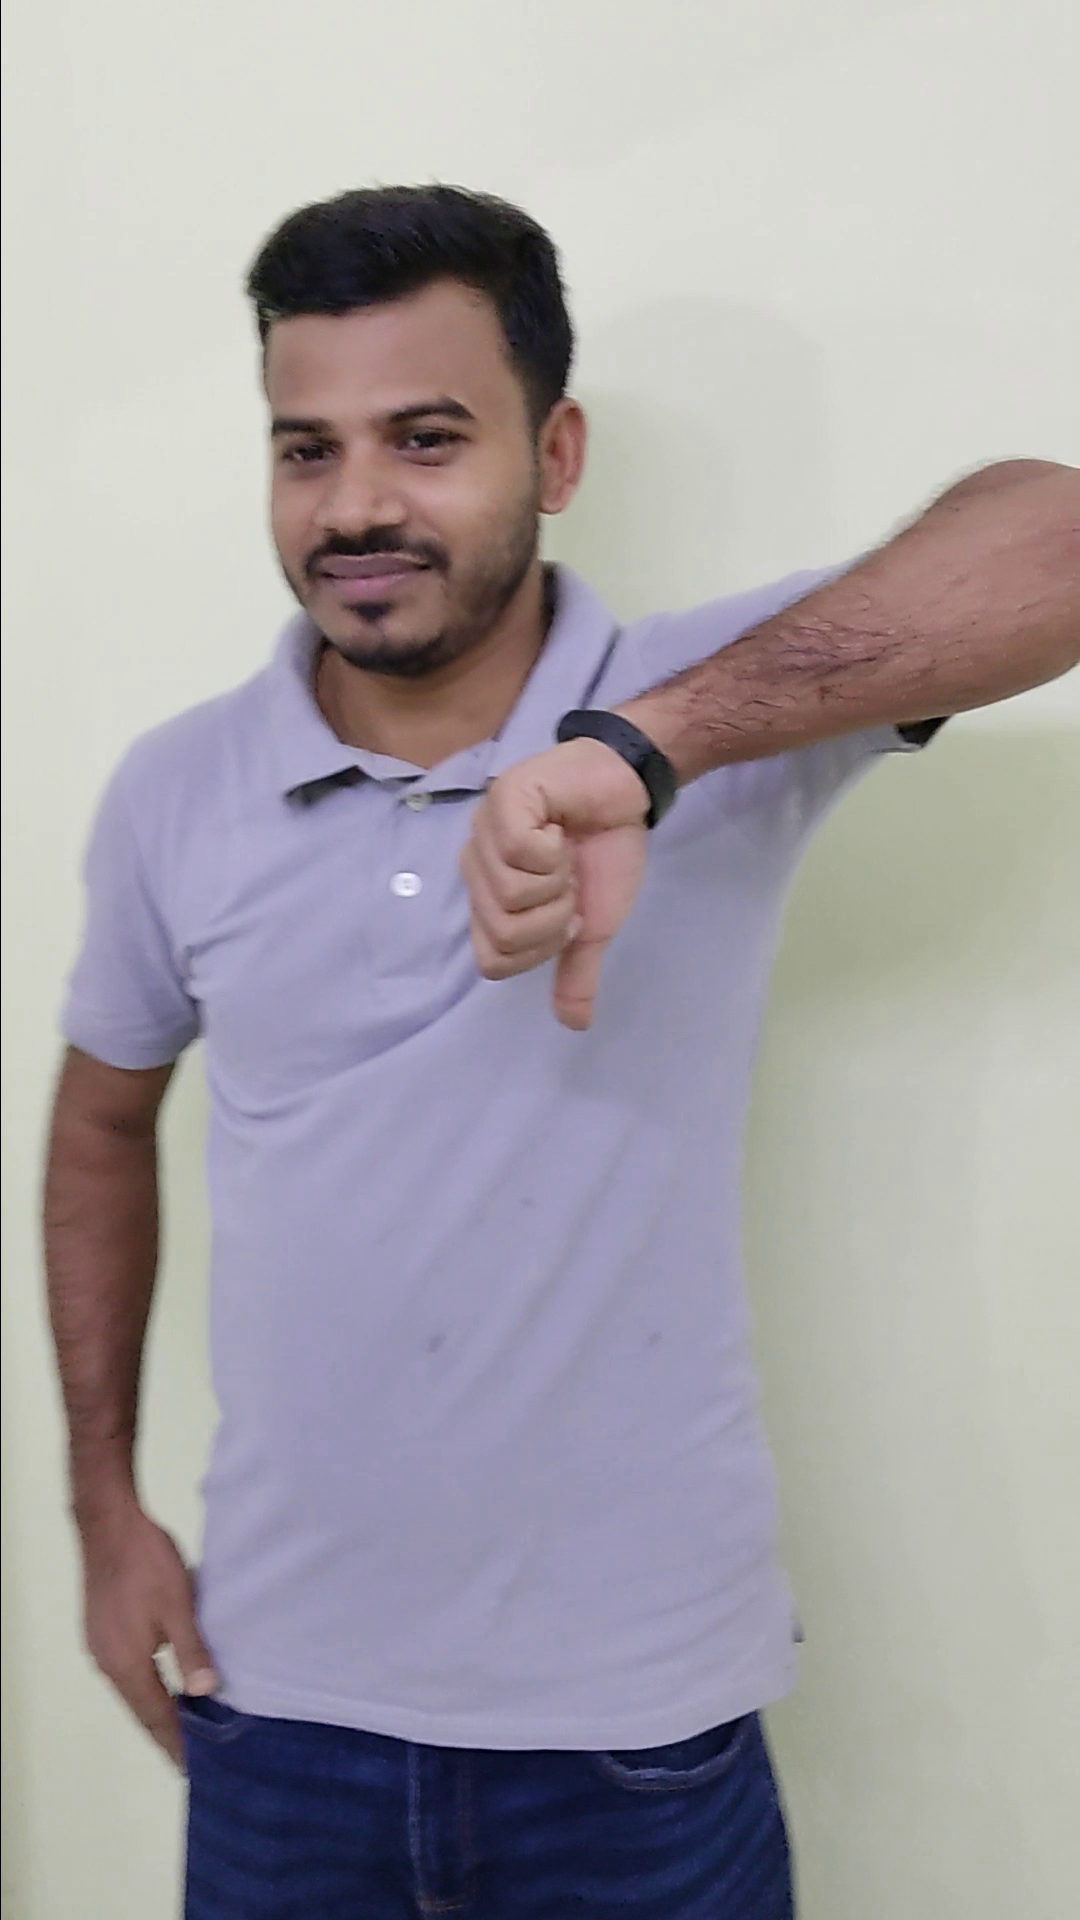Dislike: (442, 709, 665, 1046)
None: (62, 1487, 231, 1785)
